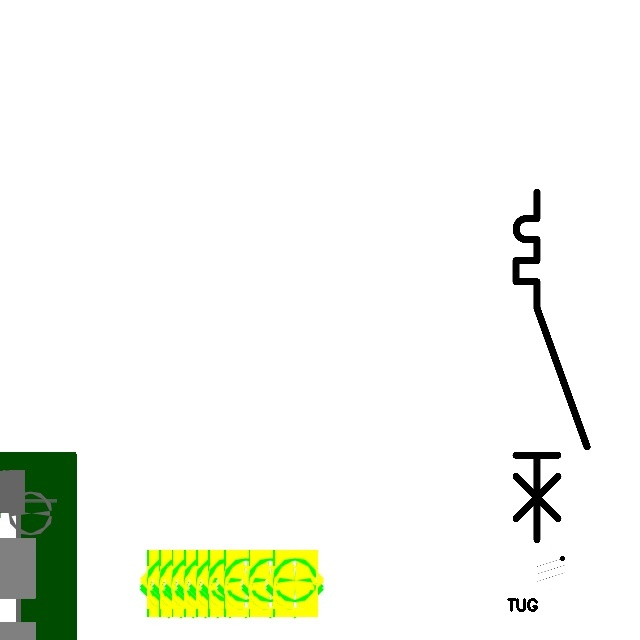interruptor_termomagnetico: (507, 183, 596, 549)
